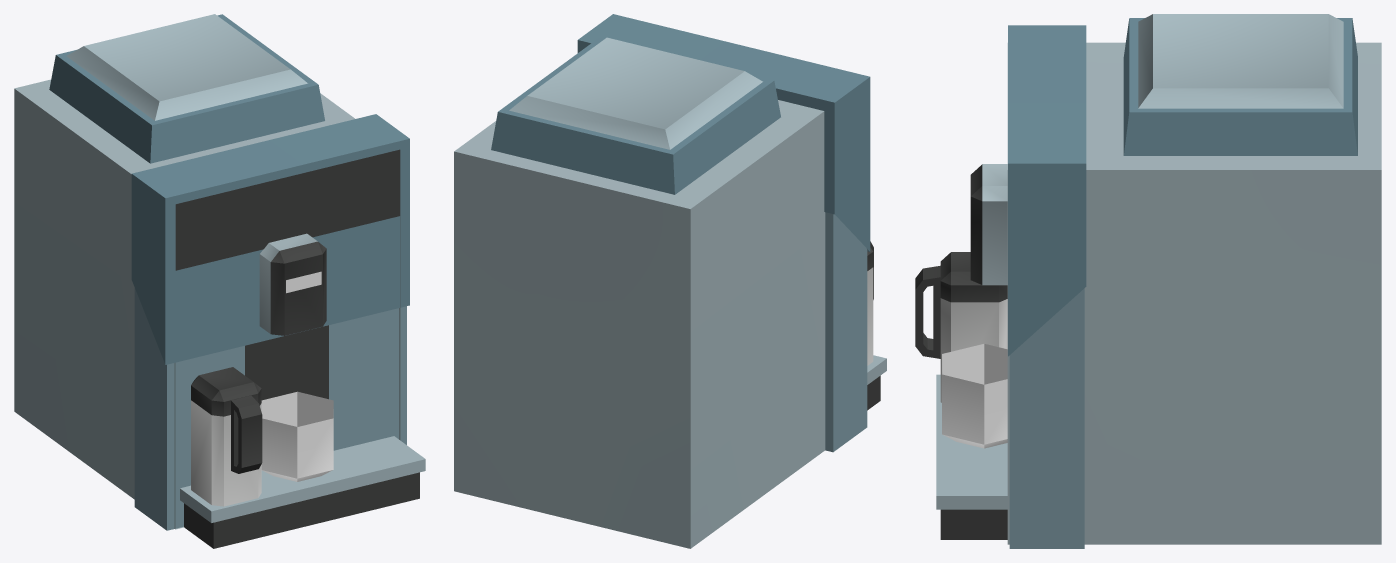
Rendered from SM_coffee_machine_001.FBX.
3 renders of one model, left to right at view 1: azimuth 30°, elevation 25°; view 2: azimuth 150°, elevation 25°; view 3: azimuth 270°, elevation 25°, orthographic. The views are drawn at different scales.
Parts seen in each view (by area): view 1: SM_coffee_machine_001; view 2: SM_coffee_machine_001; view 3: SM_coffee_machine_001.
Part boxes in pixels (bbox=[...]): SM_coffee_machine_001: bbox=[14, 14, 425, 548]; SM_coffee_machine_001: bbox=[454, 14, 886, 548]; SM_coffee_machine_001: bbox=[915, 14, 1381, 548].
Size of the model in its own units: 23.54 by 33.51 by 34.15.
